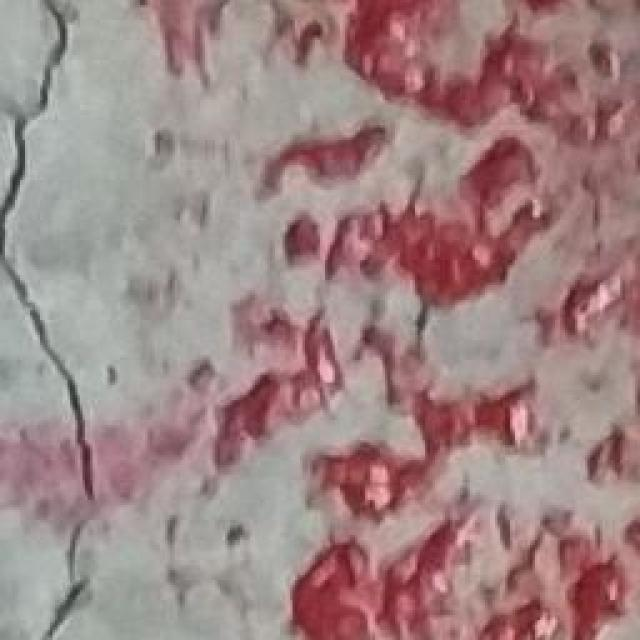Longitudinal: (0, 0, 108, 640)
Rippled: (146, 0, 640, 640)
